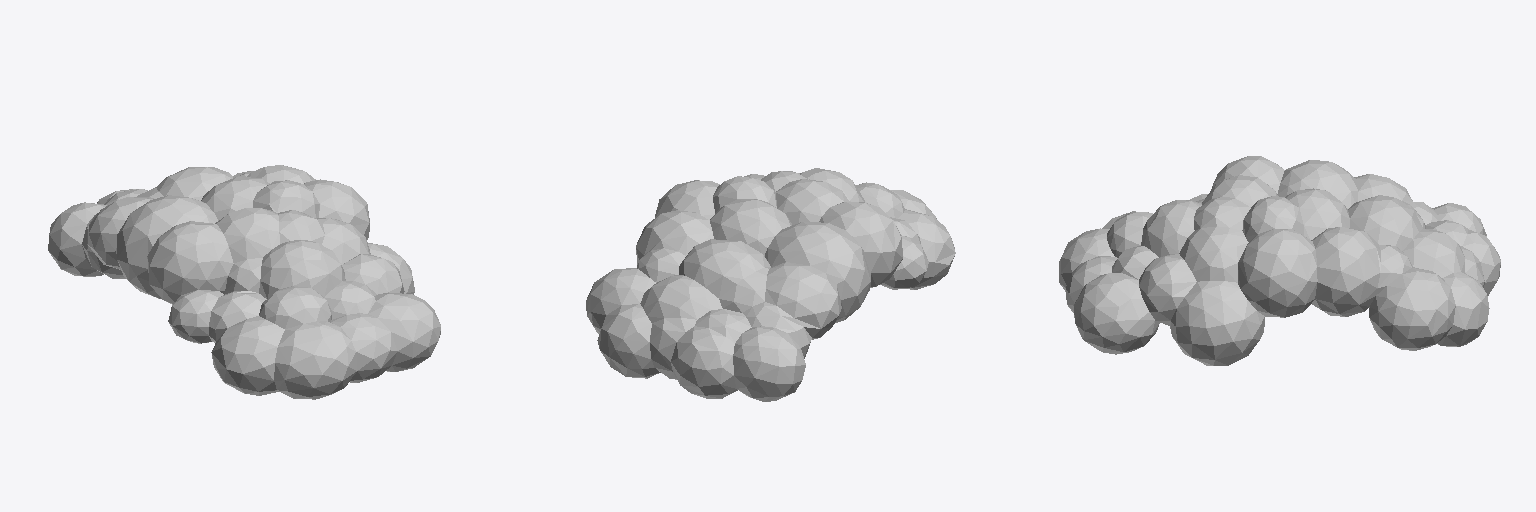
The model's file is Shallow_Bubble_Ramp.obj.
The picture shows the model from 3 angles: view 1: azimuth 30°, elevation 25°; view 2: azimuth 150°, elevation 25°; view 3: azimuth 270°, elevation 25°; orthographic projection.
Parts seen in each view (by area): view 1: Sphere.112; view 2: Sphere.112; view 3: Sphere.112.
Boxes of the visible parts, x1,y1,x2,y2 form: Sphere.112: [48, 165, 440, 399]; Sphere.112: [586, 168, 955, 401]; Sphere.112: [1059, 156, 1500, 365].
Bounding box in the file's own units: 5.61 × 3.02 × 8.86.